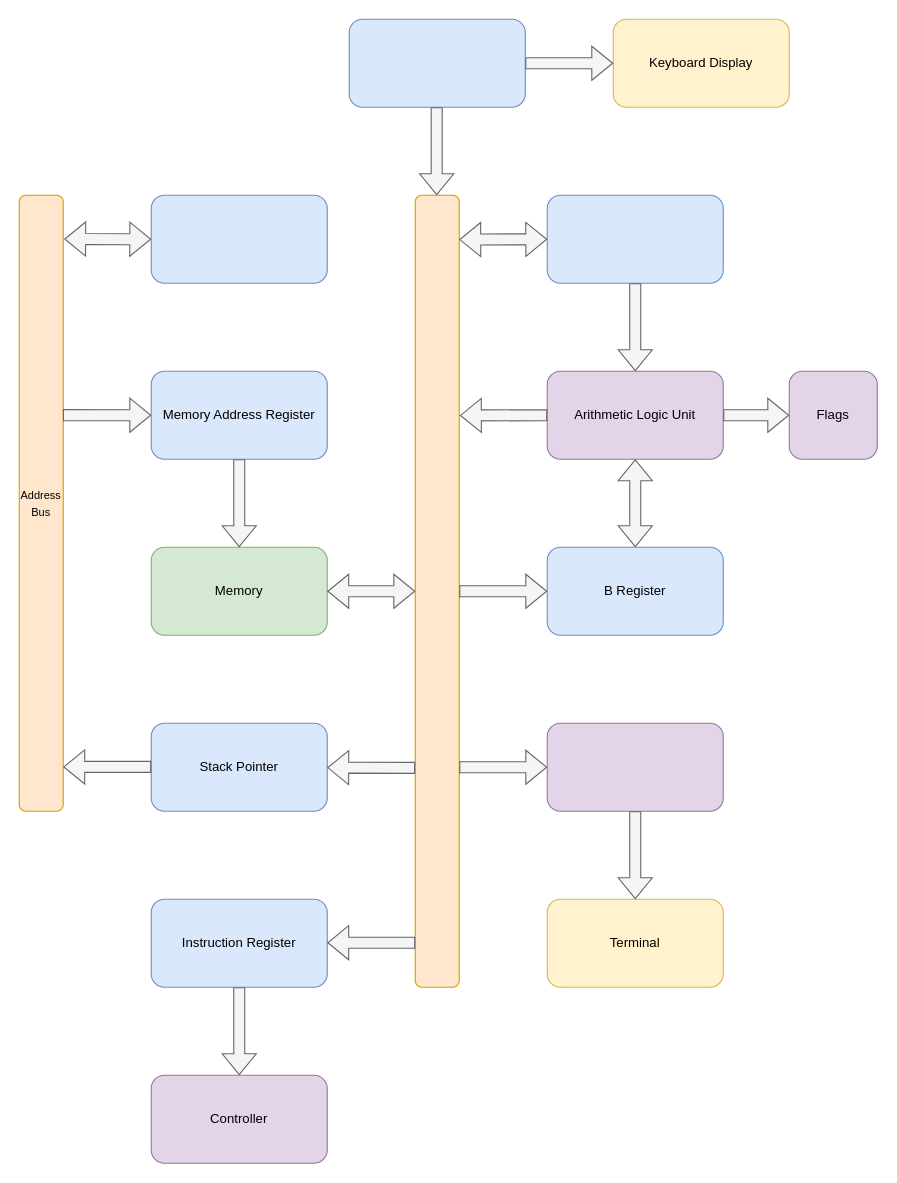
Some shapes in this 897 by 1183 pixel diagram are drawn without their labels. Here are the shapes that lost their labels. From the top down, the centre of each, then its label:
At (436,62): "Keyboard".
At (238,238): "Program Counter".
At (634,238): "A Register".
At (436,590): "Data Bus".
At (634,766): "Output Decoder".
